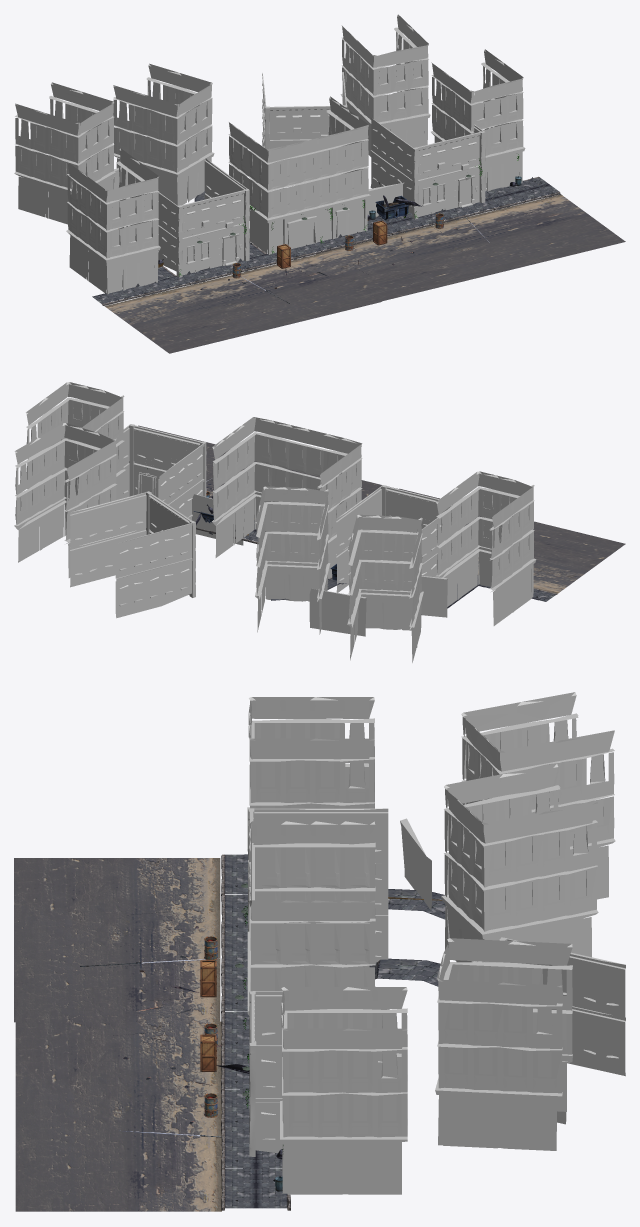
Rendered from Stage01.obj.
3 views of the same model, one above another, from view 1: azimuth 30°, elevation 25°; view 2: azimuth 150°, elevation 25°; view 3: azimuth 270°, elevation 25° (orthographic). The views are drawn at different scales.
Parts seen in each view (by area): view 1: Asphalt_1, Building02, Asphalt, Building03_1, Building03_4, Building03_2, Building03_3, Building03, Building01_2, Building01_1, Building01, PavementStraight__16_ (+9 smaller); view 2: Building02, Building01, Building03_1, Building03_3, Building03_4, Building03_2, Building01_2, Building03, Building01_1, Asphalt, WallSegment_1, WallSegment (+2 smaller); view 3: Asphalt_1, Asphalt, Building03_3, Building03, Building03_2, Building02, Building03_1, Building03_4, Building01, Building01_2, Building01_1, WallSegment (+12 smaller).
Boxes of the visible parts, left/top/right/bottom form: Asphalt_1: left=316, top=194, right=625, bottom=301; Building02: left=228, top=96, right=370, bottom=254; Asphalt: left=104, top=254, right=381, bottom=353; Building03_1: left=66, top=148, right=160, bottom=294; Building03_4: left=14, top=82, right=116, bottom=224; Building03_2: left=113, top=63, right=214, bottom=205; Building03_3: left=340, top=14, right=430, bottom=156; Building03: left=431, top=49, right=525, bottom=191; Building01_2: left=370, top=118, right=485, bottom=219; Building01_1: left=158, top=158, right=249, bottom=277; Building01: left=262, top=72, right=347, bottom=162; PavementStraight__16_: left=499, top=184, right=560, bottom=206; Building02: left=212, top=417, right=362, bottom=578; Building01: left=69, top=491, right=195, bottom=618; Building03_1: left=435, top=471, right=536, bottom=625; Building03_3: left=14, top=423, right=116, bottom=577; Building03_4: left=347, top=514, right=423, bottom=662; Building03_2: left=255, top=486, right=330, bottom=634; Building01_2: left=123, top=424, right=206, bottom=520; Building03: left=26, top=382, right=125, bottom=499; Building01_1: left=336, top=485, right=452, bottom=592; Asphalt: left=399, top=488, right=625, bottom=593; WallSegment_1: left=309, top=588, right=366, bottom=636; WallSegment: left=421, top=576, right=447, bottom=617; Asphalt_1: left=15, top=1021, right=221, bottom=1211; Asphalt: left=14, top=858, right=220, bottom=1022; Building03_3: left=435, top=938, right=572, bottom=1150; Building03: left=280, top=987, right=407, bottom=1194; Building03_2: left=441, top=763, right=598, bottom=962; Building02: left=247, top=821, right=375, bottom=1015; Building03_1: left=247, top=697, right=374, bottom=851; Building03_4: left=461, top=692, right=615, bottom=899; Building01: left=473, top=937, right=625, bottom=1124; Building01_2: left=249, top=991, right=389, bottom=1156; Building01_1: left=248, top=808, right=388, bottom=962; WallSegment: left=400, top=818, right=431, bottom=910.
Size of the model in its own units: 4319 by 1081 by 3144.
